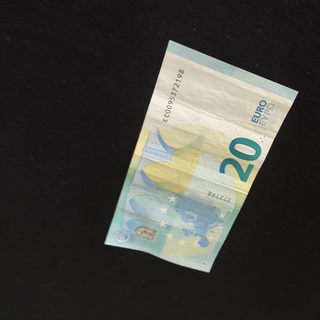20EUROBack: (103, 39, 299, 273)
